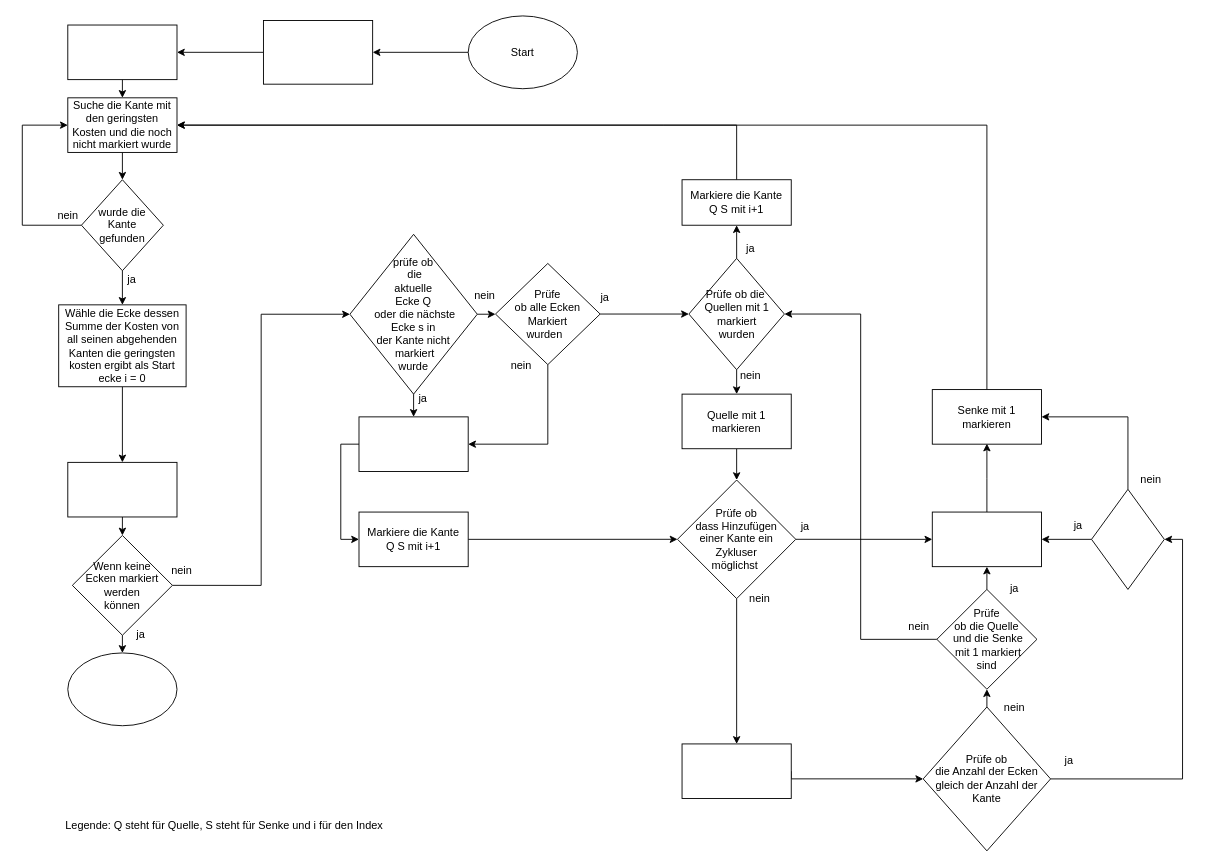
The diagram is 1206 pixels wide and 867 high, and some of its shapes have lost their labels. Each missing label, with the centre of its shape:
"Lösche alle Kanten des Graphen" goes at [122,52].
"Lösche Kante aus der Teilmenge des Graphen" goes at [986,539].
"Markiere die aktuellen Ecke Q und die nächste Ecke S i + 1" goes at [413,443].
"ob die Senke mit 1 markiert wurde" goes at [1127,538].
"Programm beenden" goes at [122,689].
"wähle die nächste Ecke inder Kante als Senke" goes at [122,489].
"Zählt die Anzahl der Ecken" goes at [736,771].
"Übertrage die Informationen des Graphen in eine Datenstruktur z.B.: Adtgraph" goes at [318,52].
